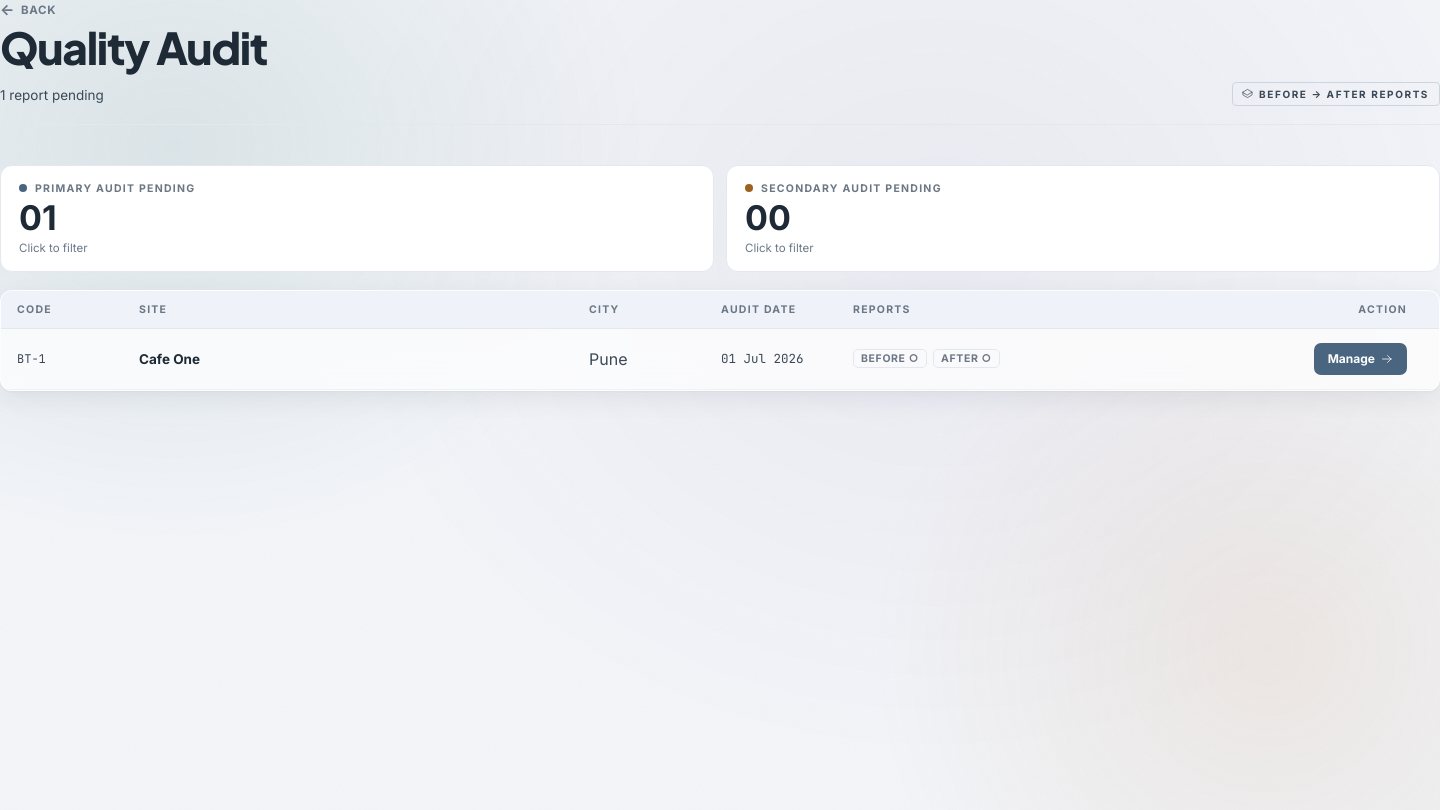
Test: offers no View link for a not-yet-uploaded report
Click the button "Manage".
click(1360, 359)  # box [1314,343,1407,375]
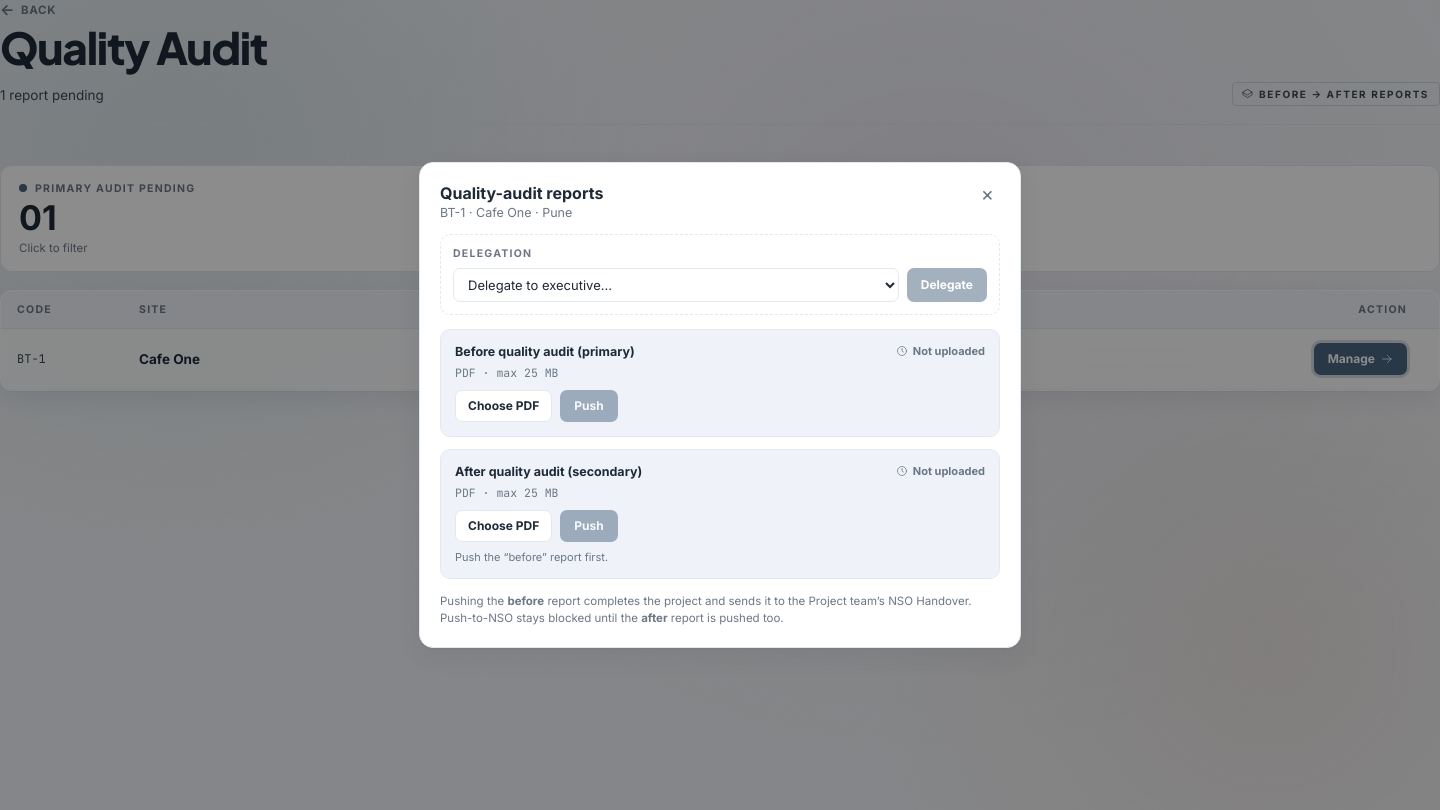
Result: the button "Choose PDF" below "Before quality audit (primary)" is shown at [455,390,552,422]
